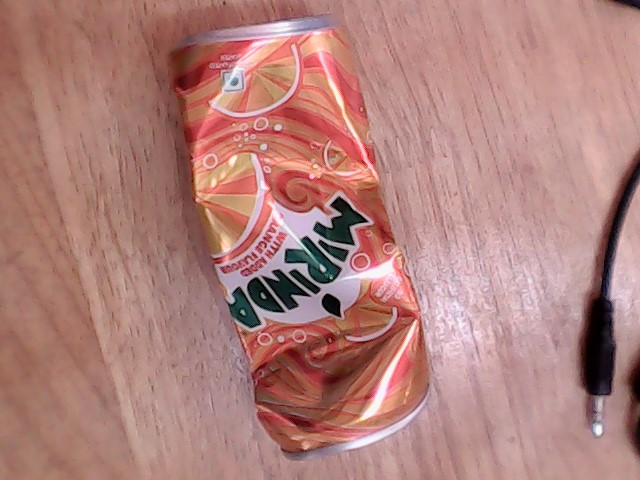Metal: (147, 39, 439, 435)
